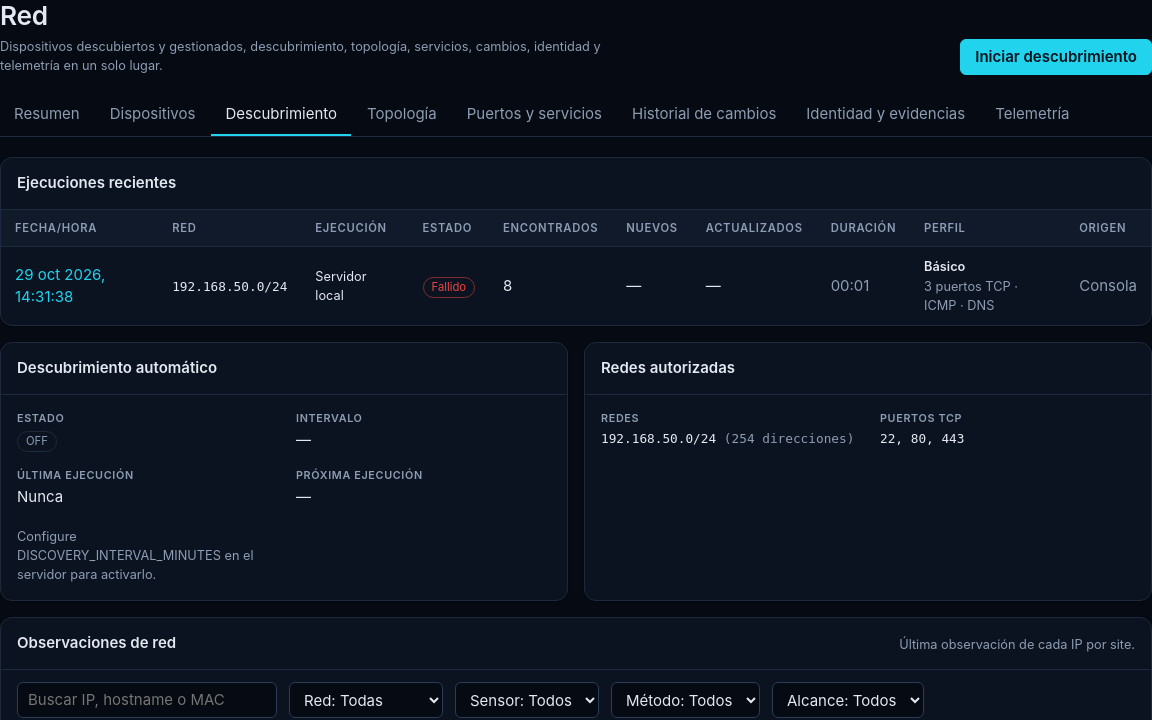
Test: NetworkPage: descubrimiento desde el dashboard › failed: muestra el motivo y que el resultado es parcial
Click the button "29 oct 2026, 14:31:38" at (80, 286), box x1=15 y1=264 x2=144 y2=309
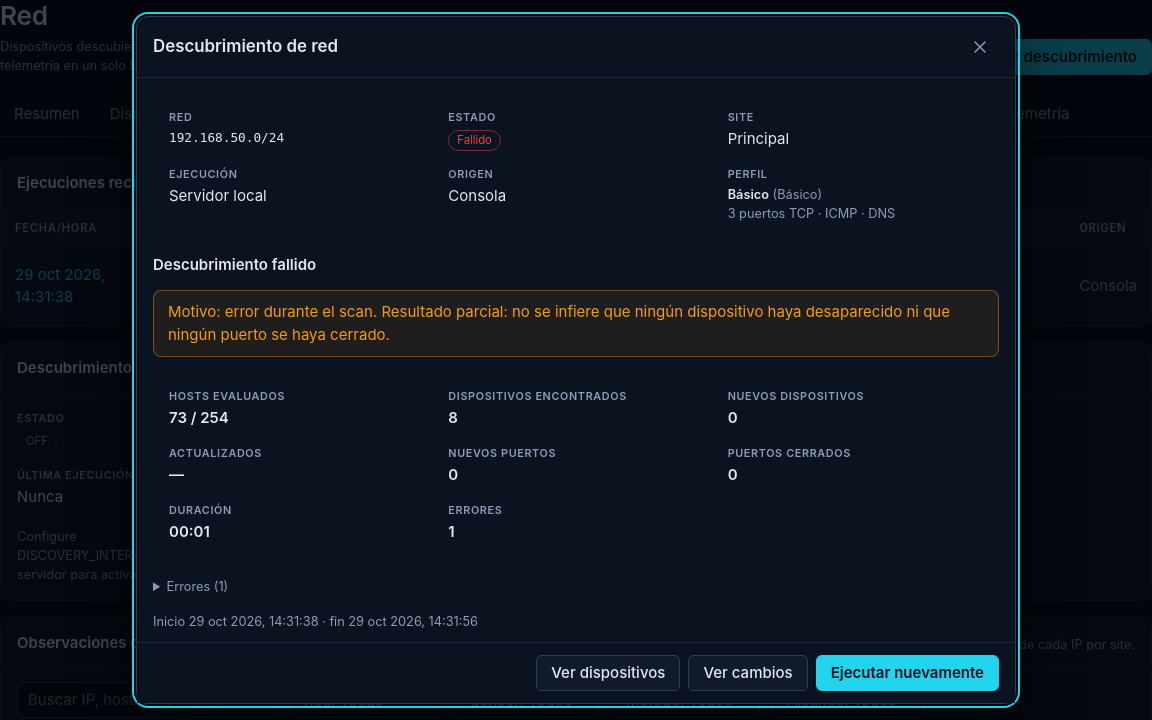
Result: the heading "Descubrimiento fallido" is shown at x1=153 y1=254 x2=316 y2=274
Result: the text "error durante el scan" is shown at x1=168 y1=302 x2=381 y2=321
